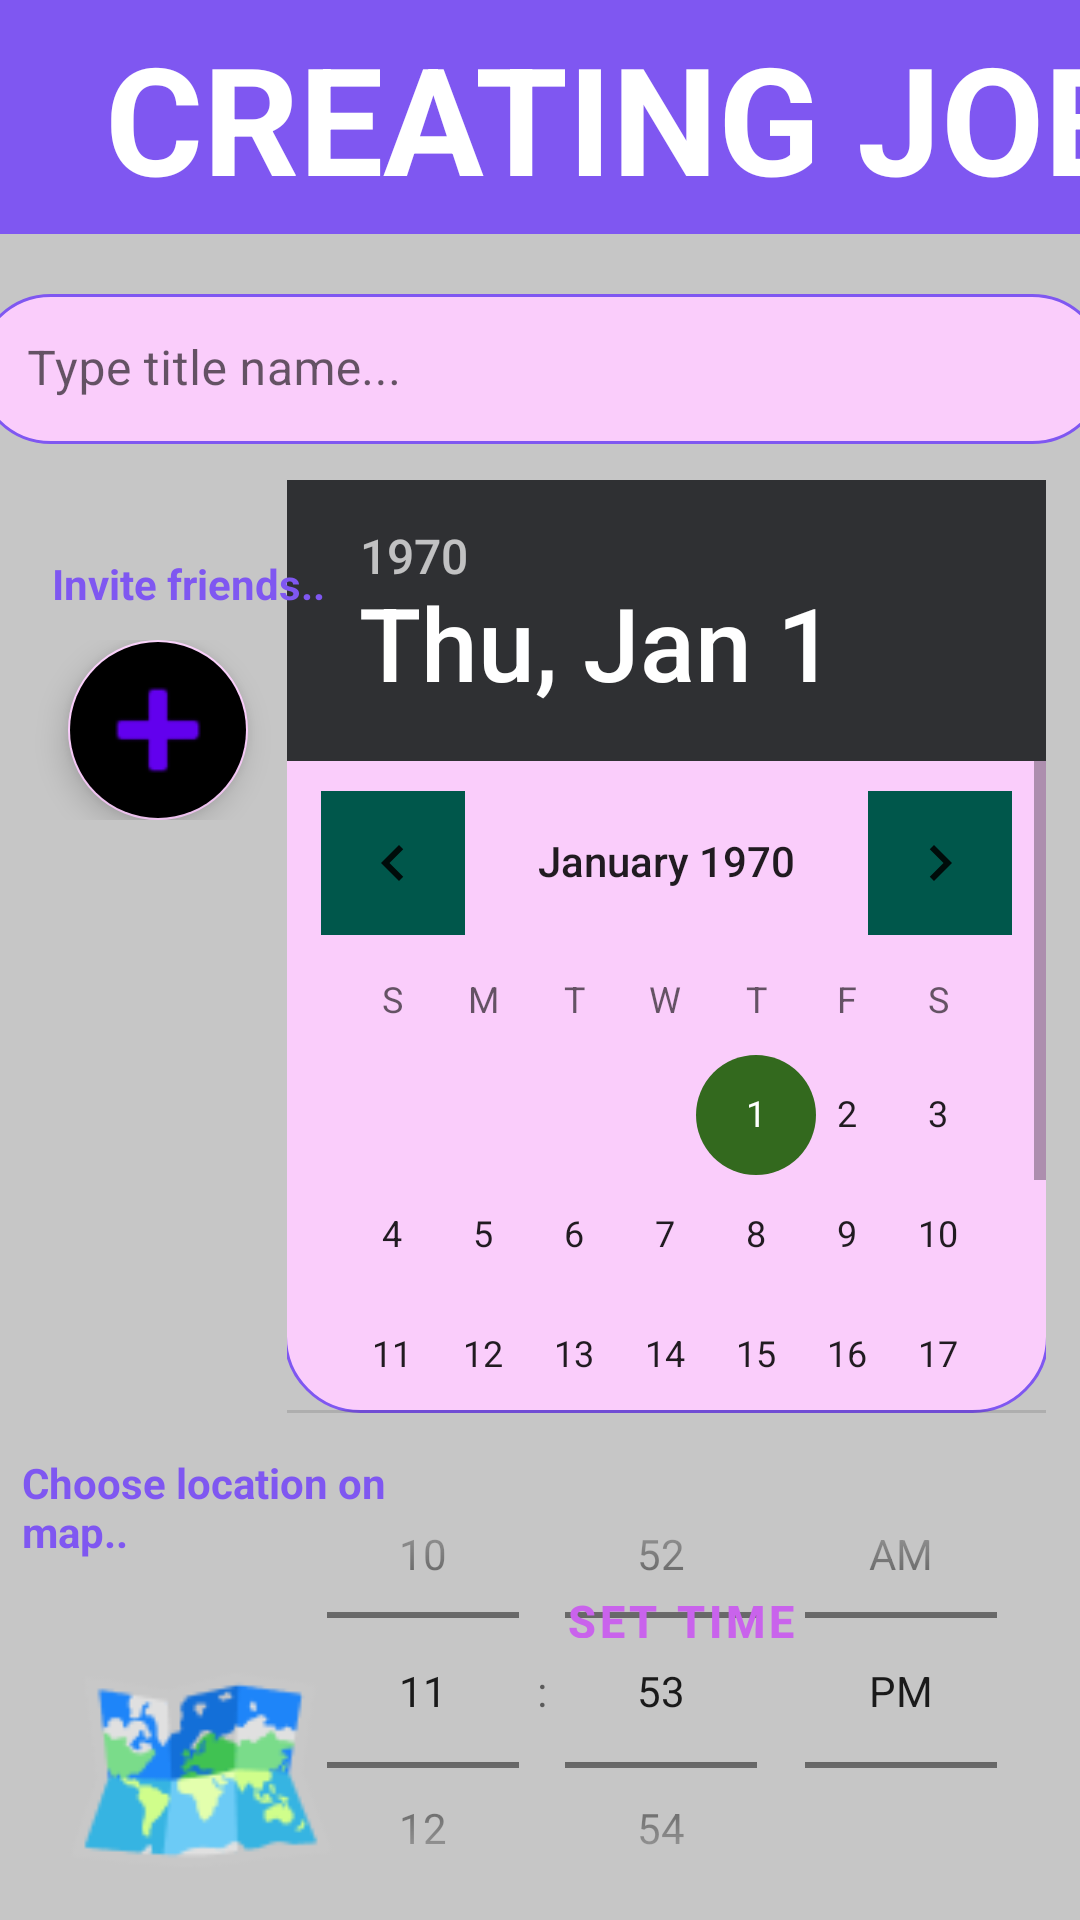

Icon click points for this 1080*1920 phone screenshot, format [x,y]:
add: [158,730]
world map: [200,1770]
